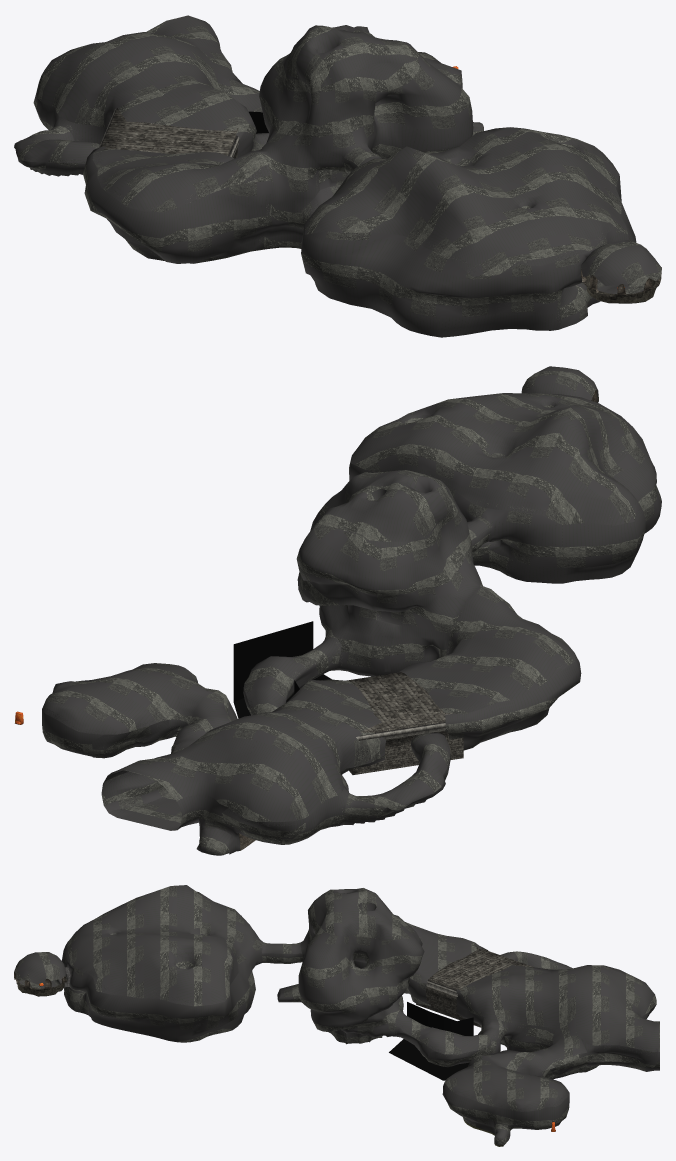
The picture shows the model from 3 angles, top to bottom: view 1: azimuth 30°, elevation 25°; view 2: azimuth 150°, elevation 25°; view 3: azimuth 270°, elevation 25°; orthographic projection. The views are drawn at different scales.
Parts seen in each view (by area): view 1: Chunk-46_Mesh-0, Chunk-36_Mesh-0, Chunk-47_Mesh-0, Chunk-5_Mesh-0, Chunk-28_Mesh-0, Chunk-27_Mesh-0, Chunk-35_Mesh-0, Chunk-0_Mesh-0, Chunk-43_Mesh-0, Chunk-21_Mesh-0, Chunk-48_Mesh-0, Chunk-6_Mesh-0 (+4 smaller); view 2: Chunk-46_Mesh-0, Chunk-5_Mesh-0, Chunk-36_Mesh-0, Chunk-27_Mesh-0, Chunk-47_Mesh-0, Chunk-14_Mesh-0, Chunk-35_Mesh-0, Chunk-0_Mesh-0, Chunk-28_Mesh-0, Chunk-6_Mesh-0, Chunk-4_Mesh-0, Chunk-37_Mesh-0 (+11 smaller); view 3: Chunk-46_Mesh-0, Chunk-5_Mesh-0, Chunk-36_Mesh-0, Chunk-47_Mesh-0, Chunk-14_Mesh-0, Chunk-35_Mesh-0, Chunk-15_Mesh-0, Chunk-0_Mesh-0, Chunk-4_Mesh-0, Chunk-72_Mesh-0, Chunk-27_Mesh-0, Chunk-6_Mesh-0 (+12 smaller).
Part boxes in pixels (box(x1,y1,x2,y2)): Chunk-46_Mesh-0: box(304, 127, 627, 276); Chunk-36_Mesh-0: box(253, 53, 473, 249); Chunk-47_Mesh-0: box(301, 138, 636, 333); Chunk-5_Mesh-0: box(36, 15, 269, 155); Chunk-28_Mesh-0: box(83, 146, 272, 263); Chunk-27_Mesh-0: box(92, 149, 269, 259); Chunk-35_Mesh-0: box(284, 25, 418, 223); Chunk-0_Mesh-0: box(101, 108, 238, 158); Chunk-43_Mesh-0: box(581, 240, 661, 294); Chunk-21_Mesh-0: box(14, 125, 99, 176); Chunk-48_Mesh-0: box(315, 266, 600, 337); Chunk-6_Mesh-0: box(35, 38, 261, 156); Chunk-46_Mesh-0: box(351, 393, 642, 550); Chunk-5_Mesh-0: box(103, 679, 386, 821); Chunk-36_Mesh-0: box(296, 483, 486, 674); Chunk-27_Mesh-0: box(397, 586, 574, 745); Chunk-47_Mesh-0: box(349, 400, 661, 579); Chunk-14_Mesh-0: box(42, 663, 231, 751); Chunk-35_Mesh-0: box(314, 470, 456, 541); Chunk-0_Mesh-0: box(345, 672, 463, 774); Chunk-28_Mesh-0: box(396, 606, 581, 749); Chunk-6_Mesh-0: box(101, 741, 384, 854); Chunk-4_Mesh-0: box(103, 771, 348, 839); Chunk-37_Mesh-0: box(319, 605, 398, 676); Chunk-46_Mesh-0: box(65, 885, 255, 1006); Chunk-5_Mesh-0: box(456, 965, 659, 1061); Chunk-36_Mesh-0: box(298, 900, 424, 1033); Chunk-47_Mesh-0: box(61, 925, 262, 1039); Chunk-14_Mesh-0: box(445, 1049, 569, 1139); Chunk-35_Mesh-0: box(277, 888, 403, 1001); Chunk-15_Mesh-0: box(442, 1062, 569, 1141); Chunk-0_Mesh-0: box(416, 947, 533, 1027); Chunk-4_Mesh-0: box(496, 1005, 657, 1075); Chunk-72_Mesh-0: box(389, 1002, 473, 1080); Chunk-27_Mesh-0: box(405, 922, 476, 983); Chunk-6_Mesh-0: box(456, 1004, 659, 1074).
Size of the model in its own units: 8964 by 4484 by 15479.
Materials: 12 (12 with a texture image).
